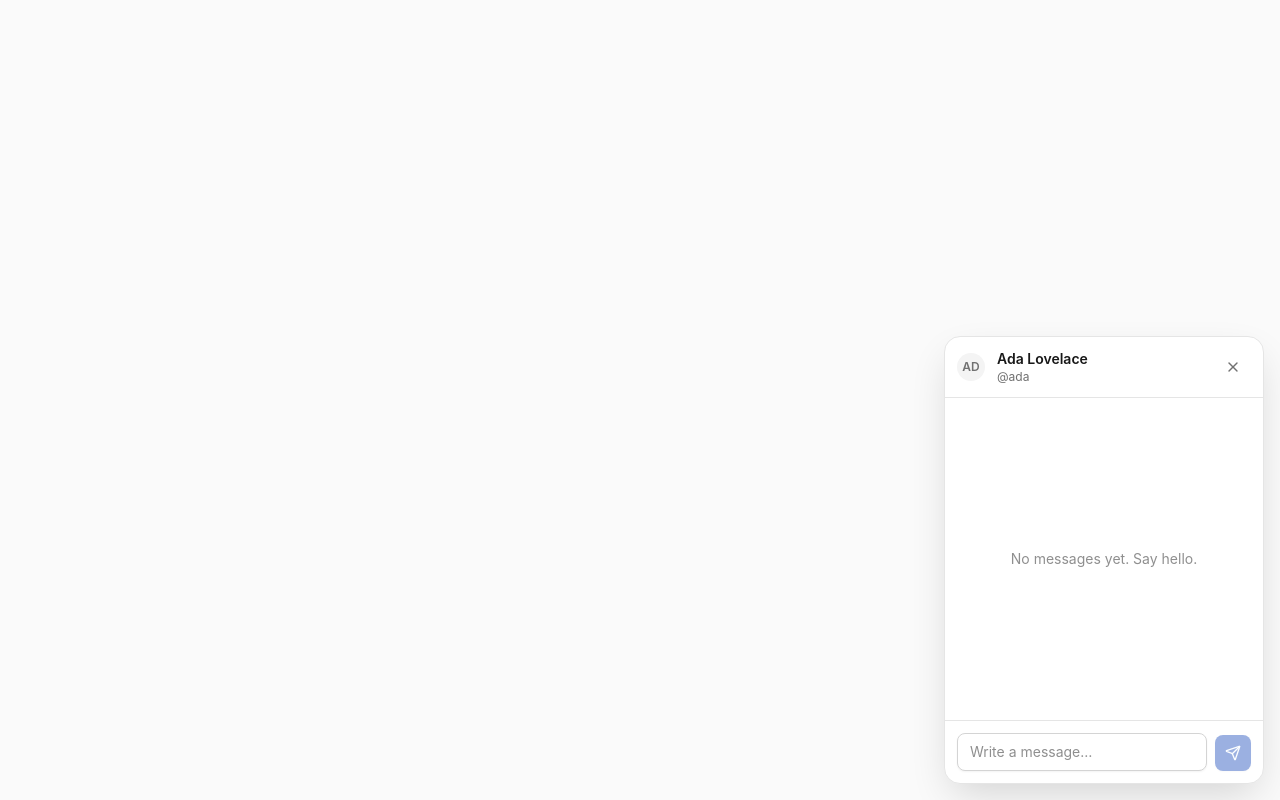
Test: composing and sending echoes the message and writes the protocol frame
Type "hello Ada" into the text box at (1082, 752), box [957, 733, 1207, 771]
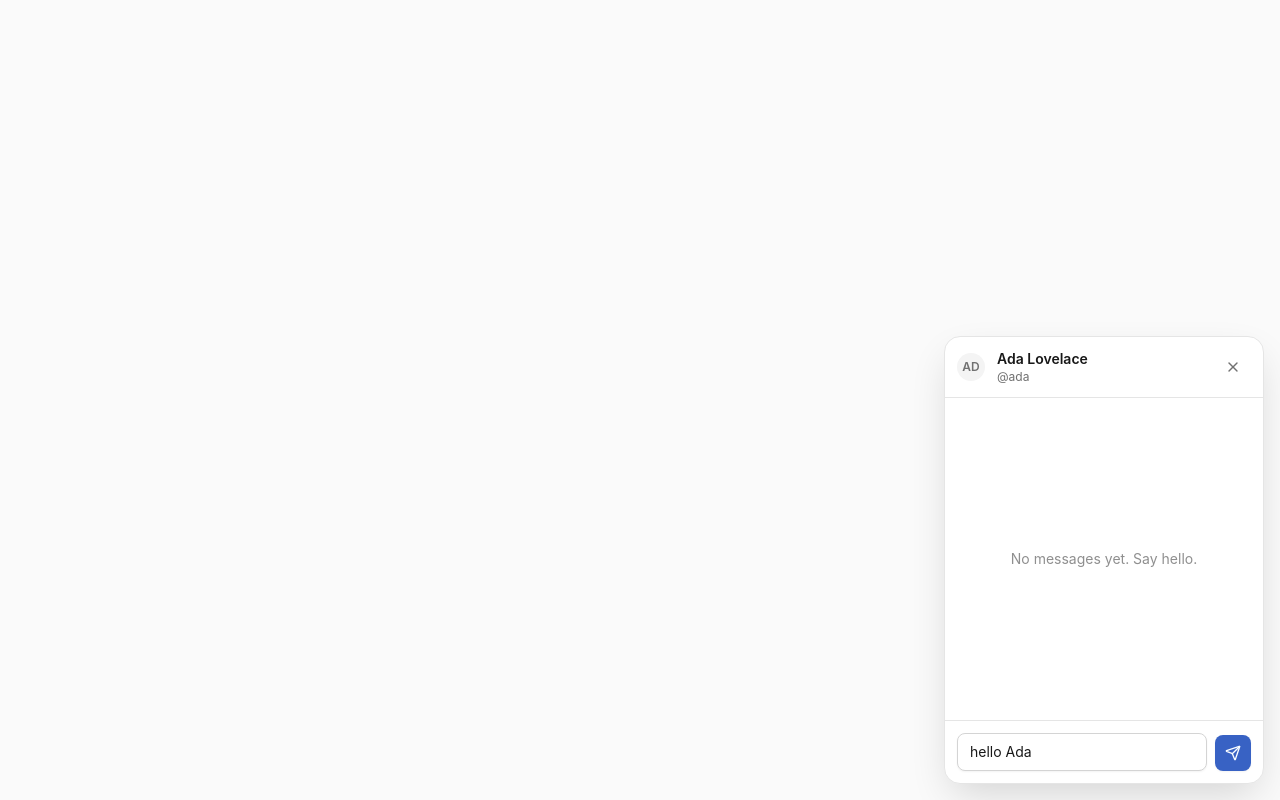
Click the button named "Send" at (1233, 753), box [1215, 735, 1251, 771]
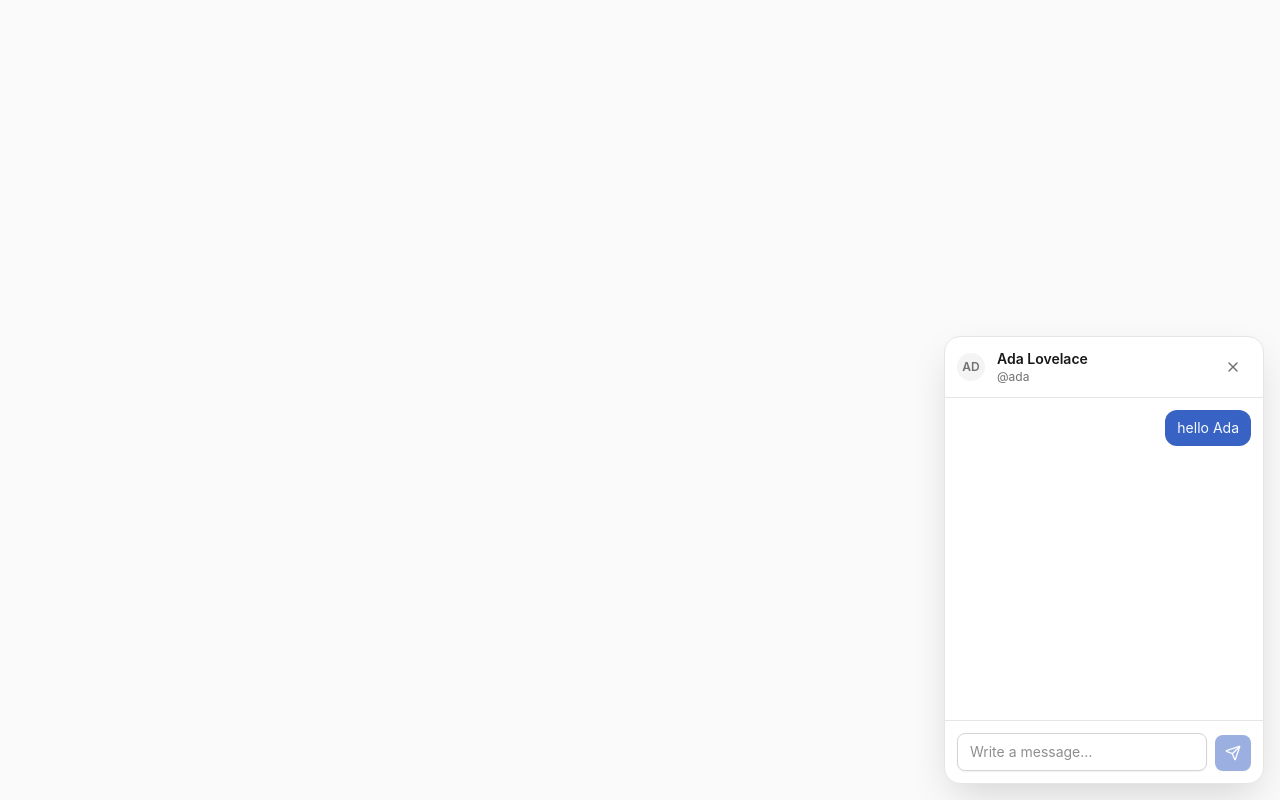
Now the text "hello Ada" is shown, box [1165, 410, 1251, 446]
